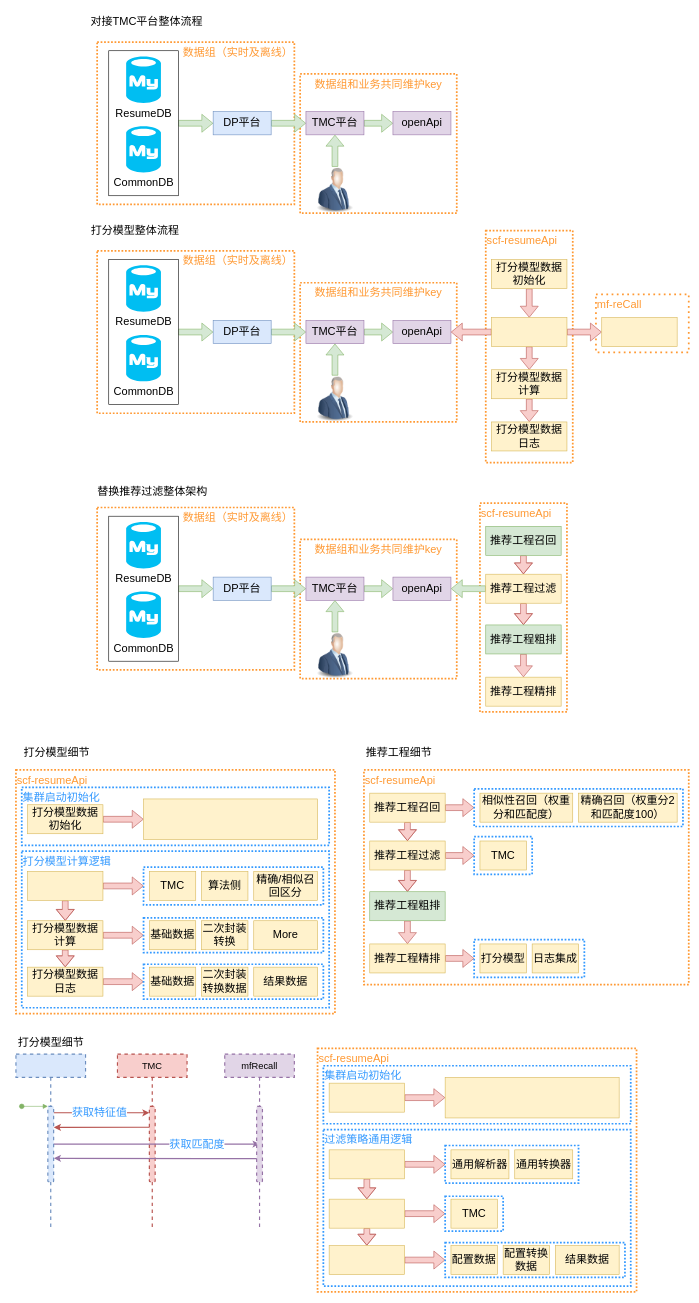
Some shapes in this 699 by 1303 pixel diagram are drawn without their labels. Each missing label, with the centre of its shape:
MF- RESUMEAPI: the point at 50,1140
wConfig中获取初始化配置（各个过滤策略的配置）: the point at 532,1097
wConfig中获取初始化配置（计算公式，各个特征对应权重值）: the point at 230,819
打分模型数据 取值: the point at 529,332
打分模型数据取值: the point at 65,885
算法工程 权重得分: the point at 639,332
过滤策略数据 日志: the point at 367,1260
过滤策略数据初始化: the point at 367,1097
过滤策略数据取值: the point at 367,1213
过滤策略通用配置数据解析: the point at 367,1164
